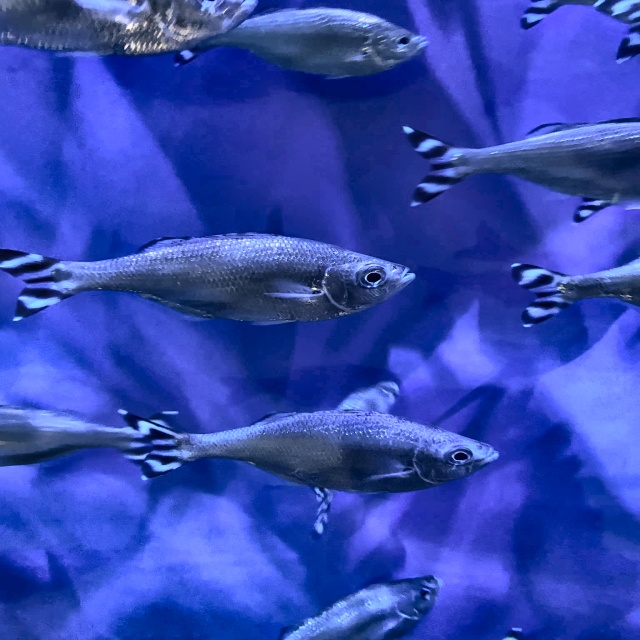fish: (0, 223, 428, 338), (143, 400, 509, 488), (401, 111, 639, 220), (200, 0, 430, 81), (0, 0, 260, 68), (273, 567, 458, 639), (0, 402, 156, 472), (515, 254, 639, 314)
